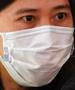with_mask: (1, 2, 75, 90)
